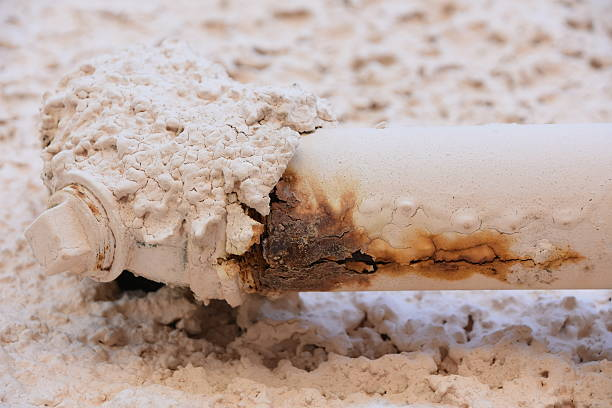crack: (405, 247, 534, 276)
hole: (342, 244, 388, 278), (240, 237, 278, 274), (268, 184, 294, 212), (239, 204, 270, 225)
